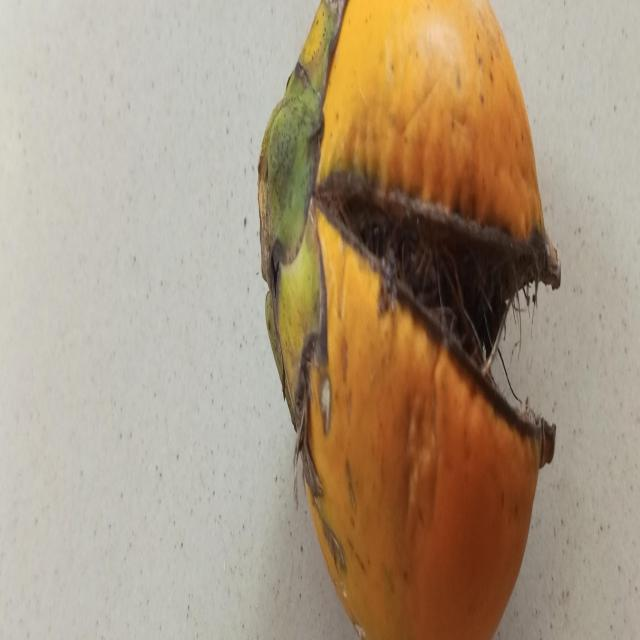damaged: (258, 0, 560, 640)
